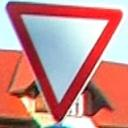preferencia: (5, 1, 124, 121)
